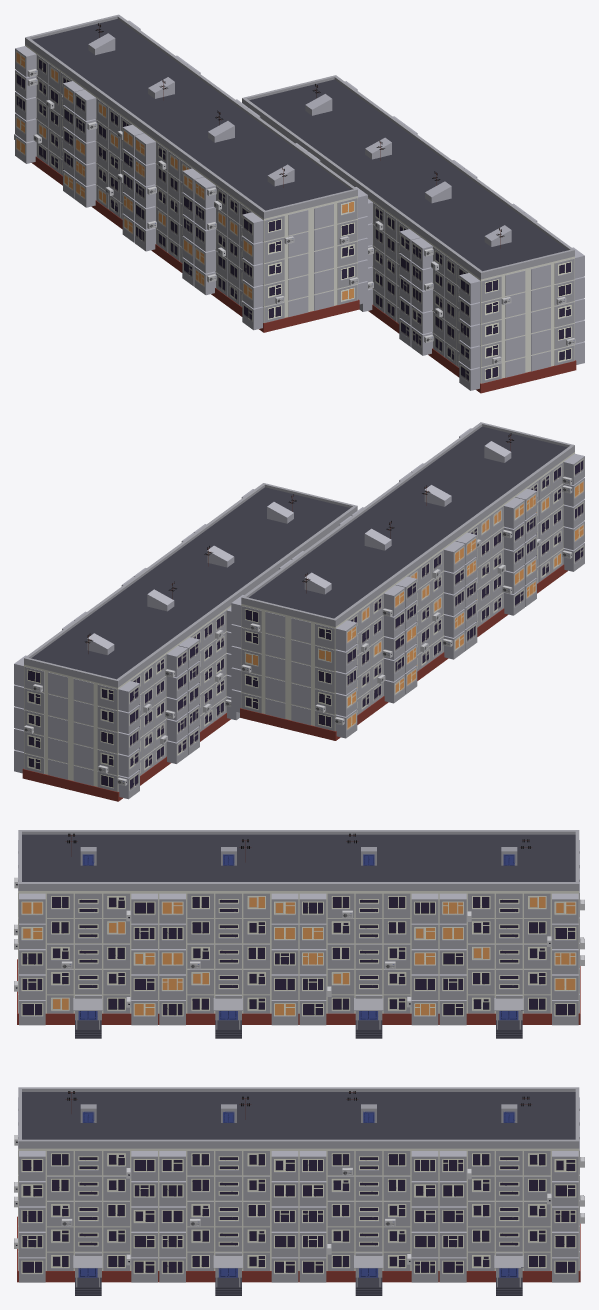
The model's file is Apartment.fbx.
3 renders of one model, top to bottom at view 1: azimuth 30°, elevation 25°; view 2: azimuth 150°, elevation 25°; view 3: azimuth 270°, elevation 25°, orthographic. The views are drawn at different scales.
Parts seen in each view (by area): view 1: Apartment.Night, Apartment; view 2: Apartment.Night, Apartment; view 3: Apartment, Apartment.Night.
Part boxes in pixels (box(x1,y1,x2,y2)): Apartment.Night: box(14, 14, 367, 332); Apartment: box(242, 75, 584, 393); Apartment.Night: box(231, 422, 584, 740); Apartment: box(14, 483, 357, 801); Apartment: box(14, 1087, 584, 1295); Apartment.Night: box(14, 830, 584, 1038).
Bounding box in the file's own units: 3510 × 2431 × 4274.
Materials: 134 (132 with a texture image).
